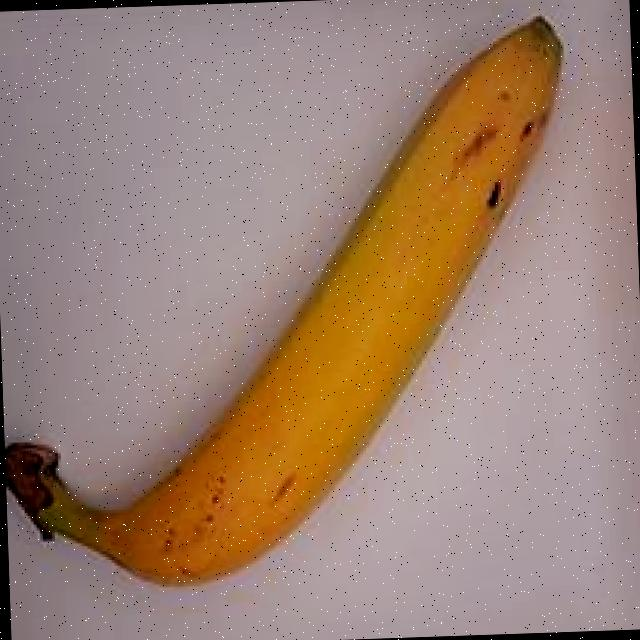Ripe: (0, 8, 602, 601)
